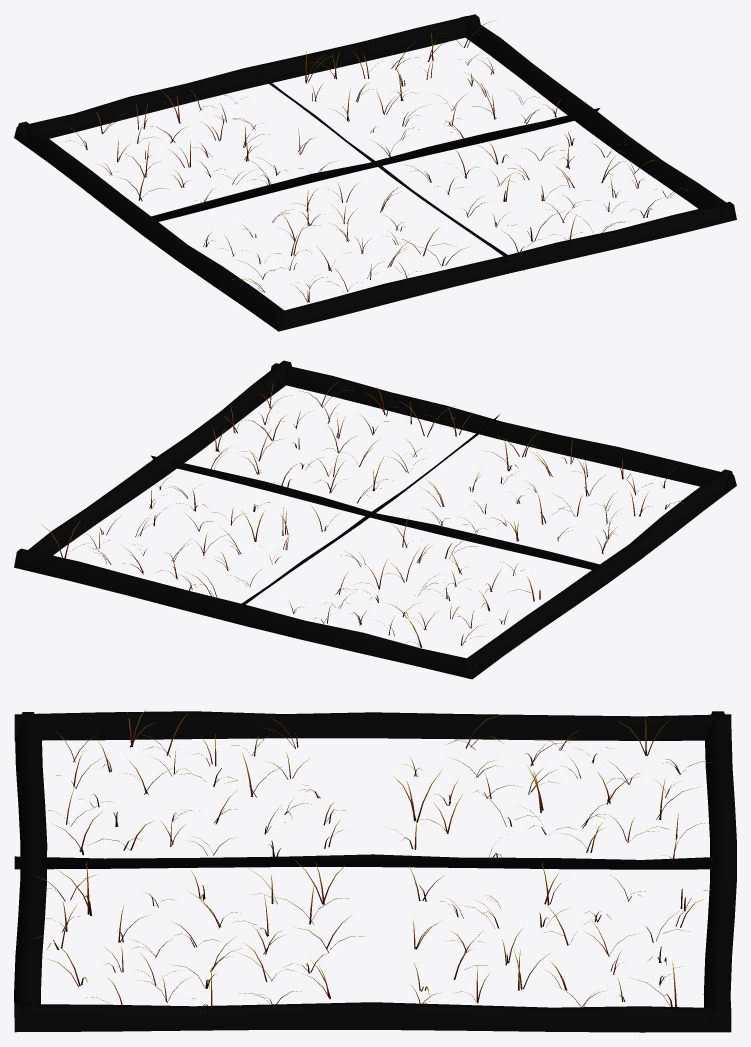
File: patch_paddy_quad_far.glb
3 views of the same model, one above another, from view 1: azimuth 30°, elevation 25°; view 2: azimuth 150°, elevation 25°; view 3: azimuth 270°, elevation 25° (orthographic). The views are drawn at different scales.
Parts seen in each view (by area): view 1: patch_paddy_quad_far; view 2: patch_paddy_quad_far; view 3: patch_paddy_quad_far.
Part boxes in pixels (bbox=[...]): patch_paddy_quad_far: bbox=[14, 14, 736, 331]; patch_paddy_quad_far: bbox=[14, 360, 736, 679]; patch_paddy_quad_far: bbox=[14, 709, 736, 1032].
Size of the model in its own units: 12.11 by 0.8202 by 12.11.
1 material, 1 textured.
